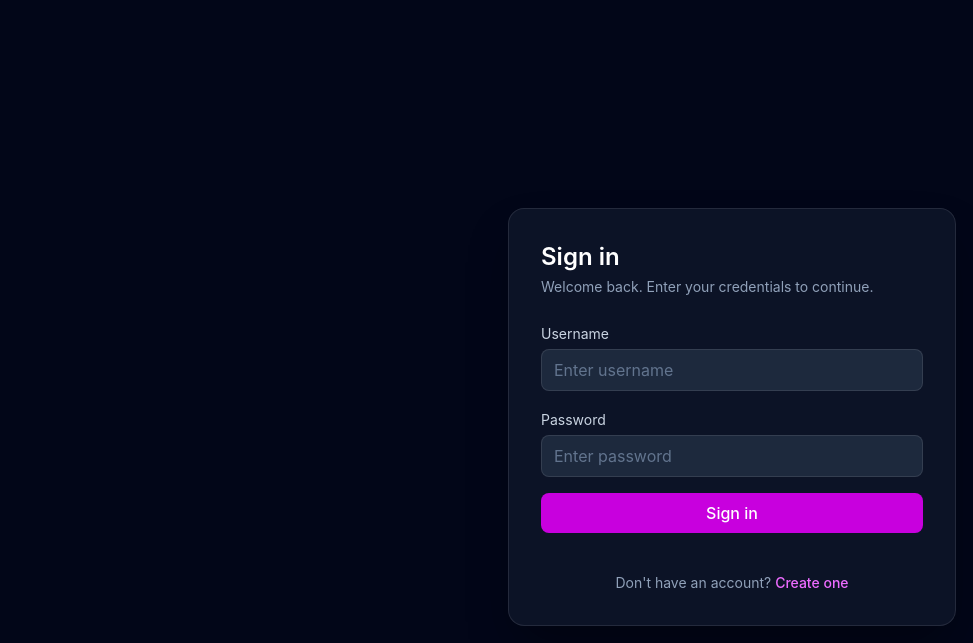
Test case: LoginPage › authenticates, saves the token, refreshes the profile, and returns to the requested URL
This screenshot has width=973, height=643.
Type "ava" into the field with placeholder "Enter username" at [732, 370], box [541,349,923,391]
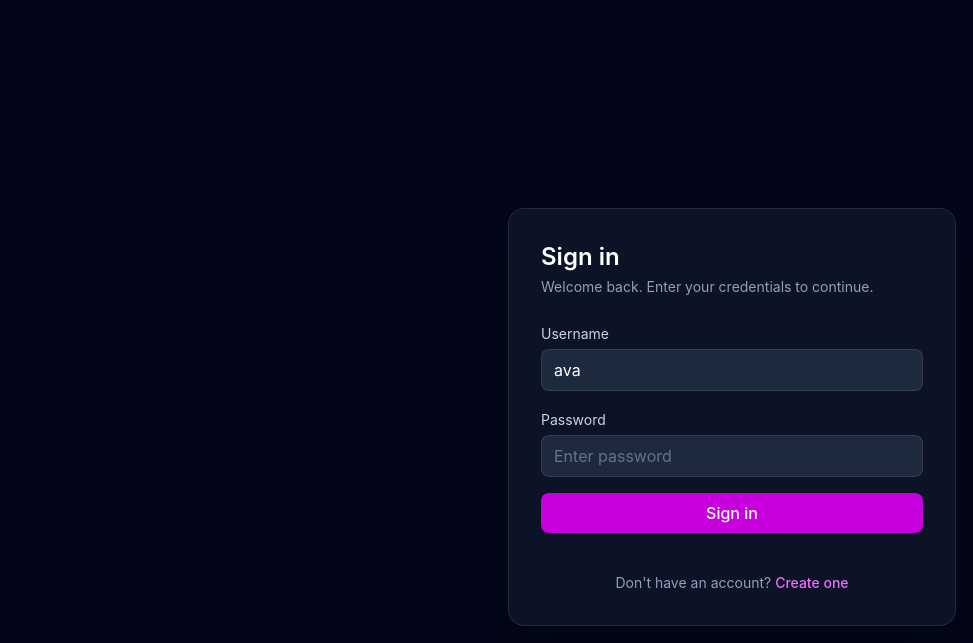
Type "password" into the password field with placeholder "Enter password" at [732, 456], box [541,435,923,477]
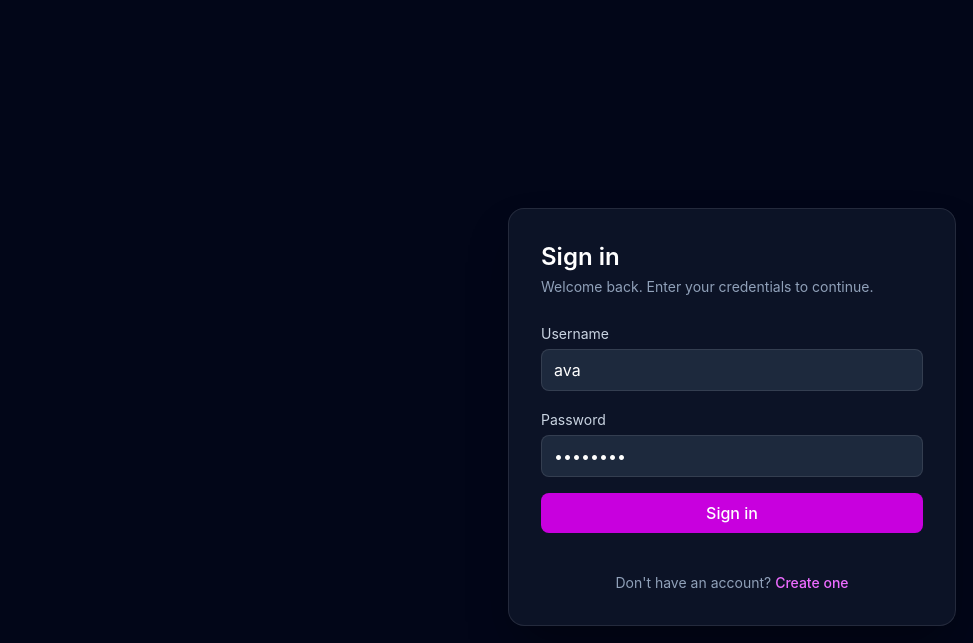
Click the button "Sign in" at [732, 513], box [541,493,923,533]
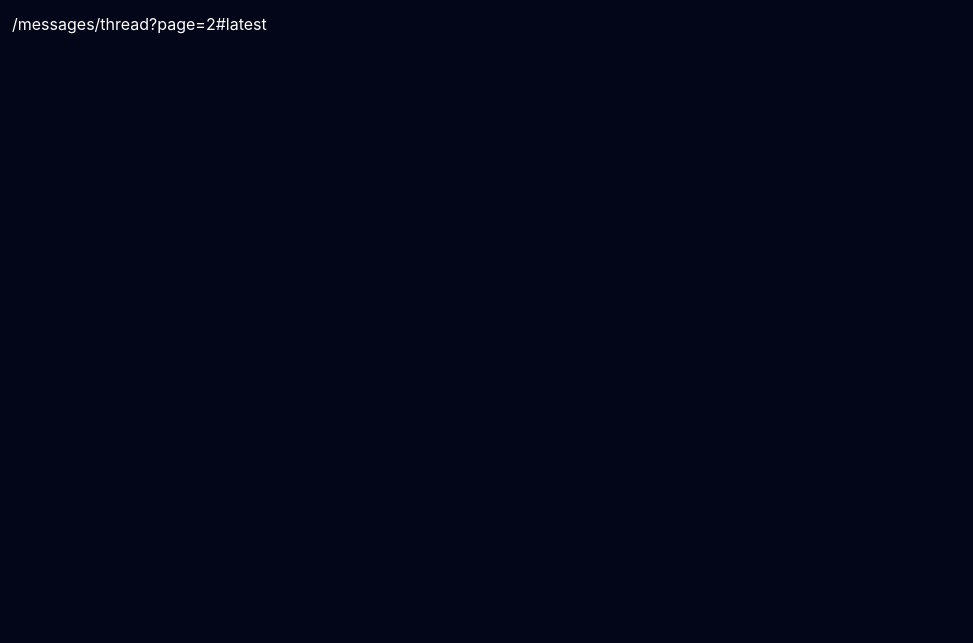
Expected: the text with test id "location" reads "/messages/thread?page=2#latest", [12,14,267,34]
